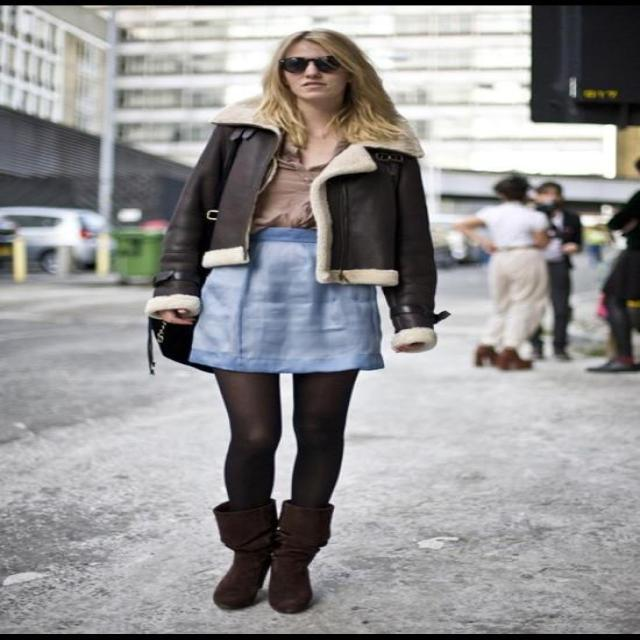skirt: (187, 228, 386, 373)
sweater: (146, 90, 449, 351)
